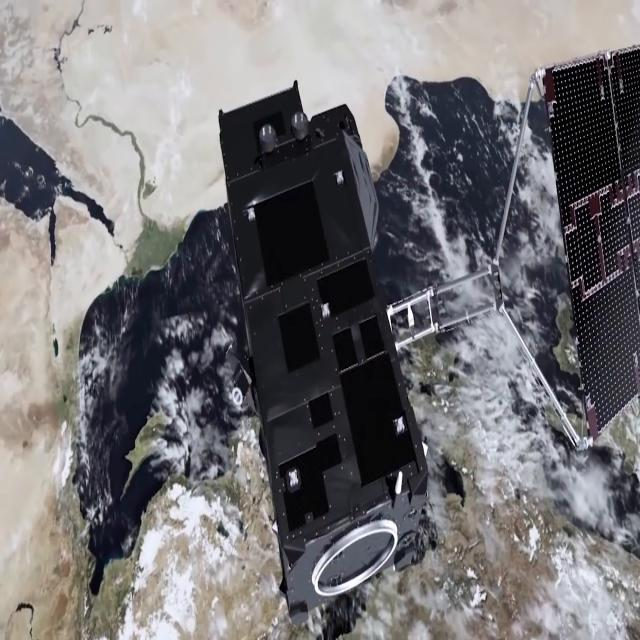satellite: (193, 37, 640, 614)
